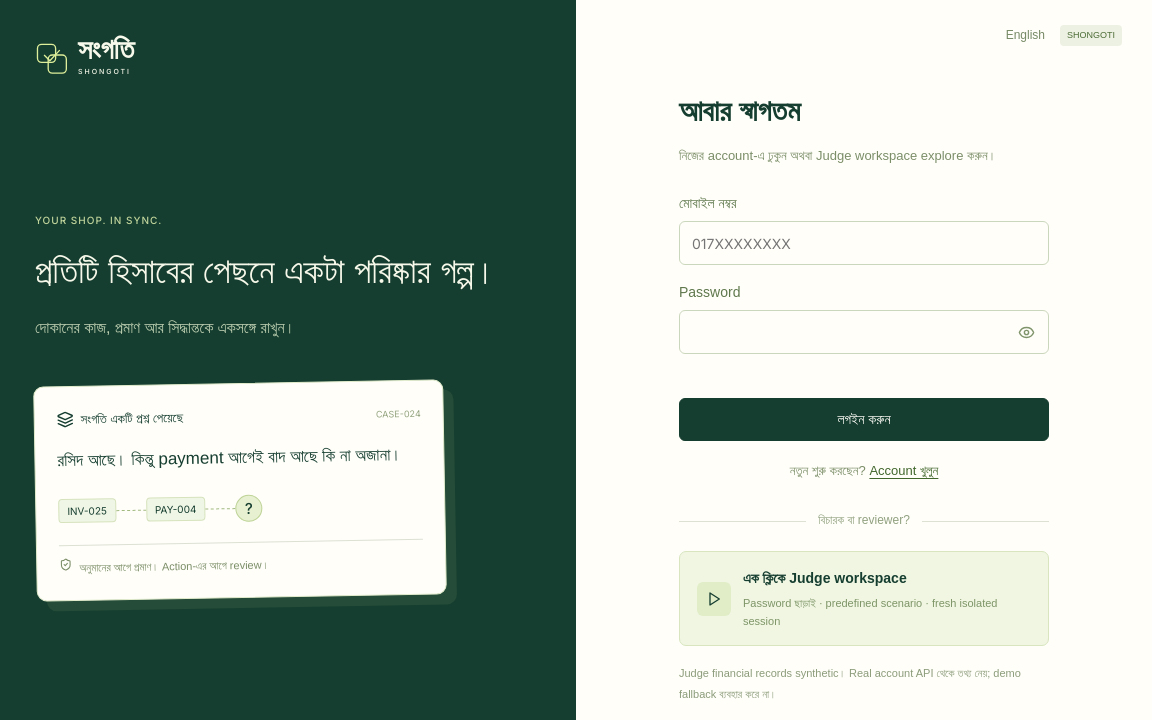
Test: Protected merchant workflow boundaries › one-click judge entry uses the server endpoint and opens the protected shell
Click the button "Judge workspace" at {"x": 864, "y": 599}, box left=679, top=551, right=1049, bottom=646
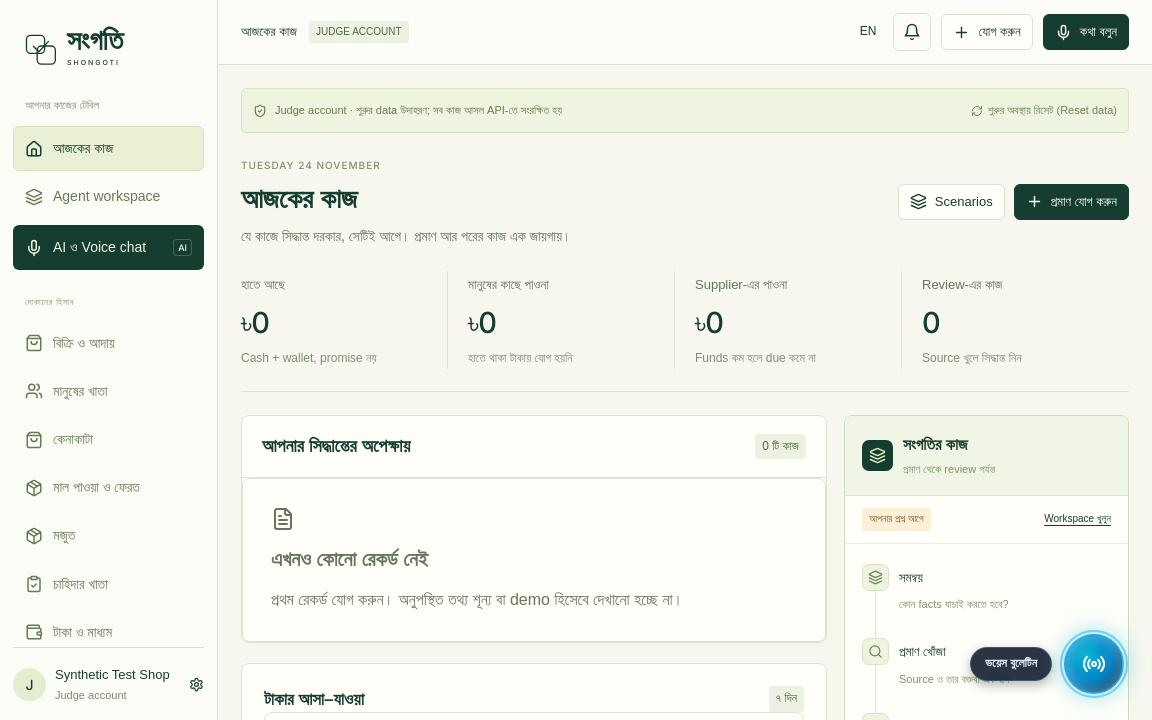
Now the element with class "wb-sidebar" is shown, box left=0, top=0, right=218, bottom=719
Now the element with class "workspace-mode" shows "Judge", box left=275, top=104, right=562, bottom=116
